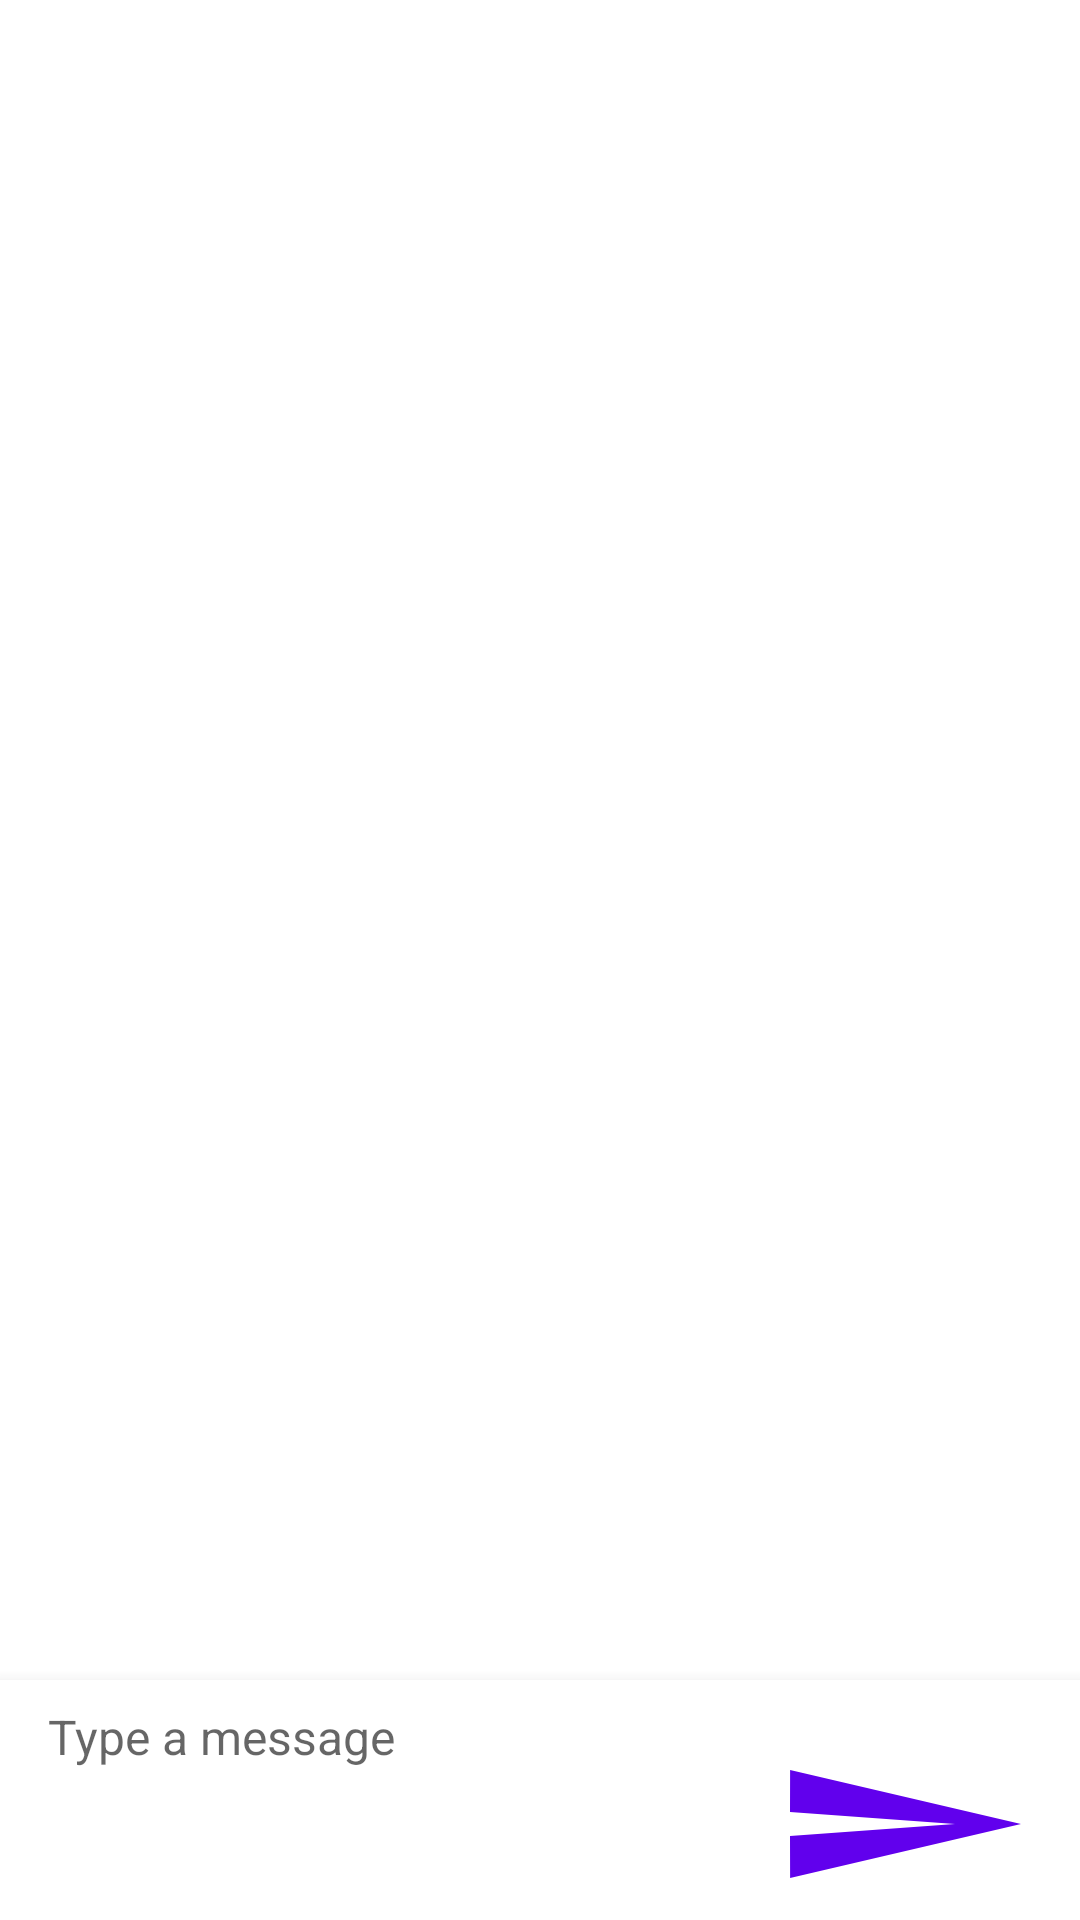

Locate icon controls on the screen. Image size 1080 × 1920, boxes as (x1, y1, x2, y2).
Send message: (790, 1770, 1021, 1878)
